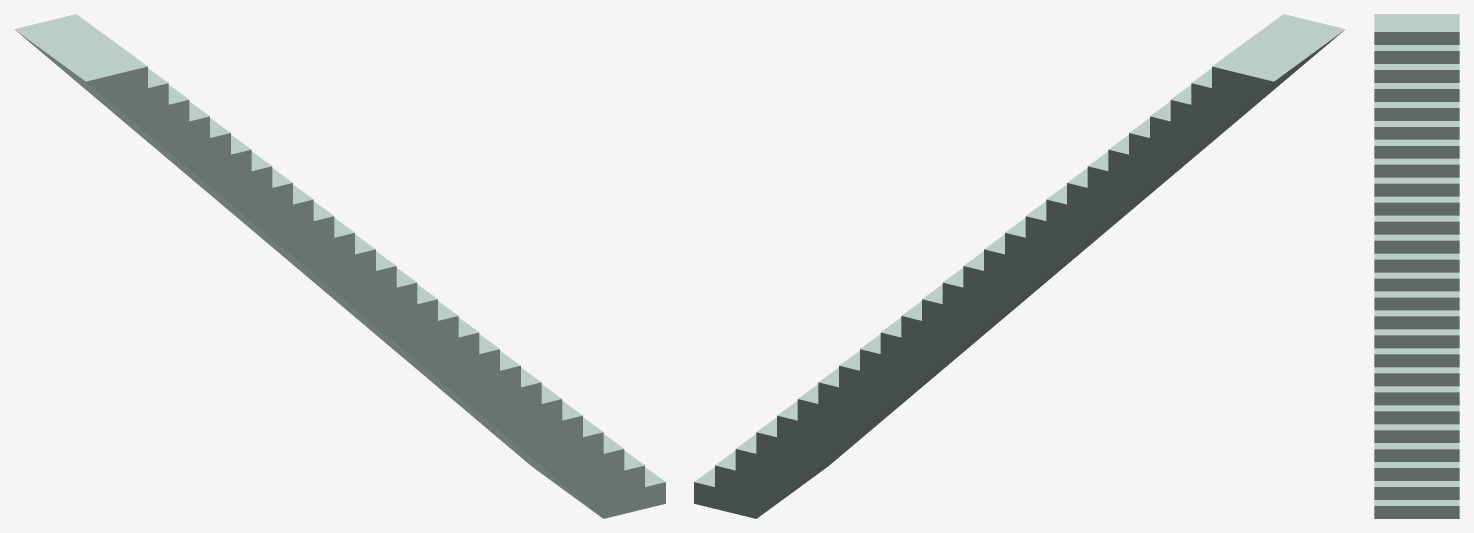
The model's file is stairway.fbx.
The picture shows the model from 3 angles, left to right: view 1: azimuth 30°, elevation 25°; view 2: azimuth 150°, elevation 25°; view 3: azimuth 270°, elevation 25°; orthographic projection. The views are drawn at different scales.
Visible parts, largest first — view 1: castle_stairs_01; view 2: castle_stairs_01; view 3: castle_stairs_01.
Boxes of the visible parts, x1,y1,x2,y2 form: castle_stairs_01: [14, 14, 665, 518]; castle_stairs_01: [694, 14, 1345, 518]; castle_stairs_01: [1374, 14, 1459, 518].
Size of the model in its own units: 700 by 650 by 150.
